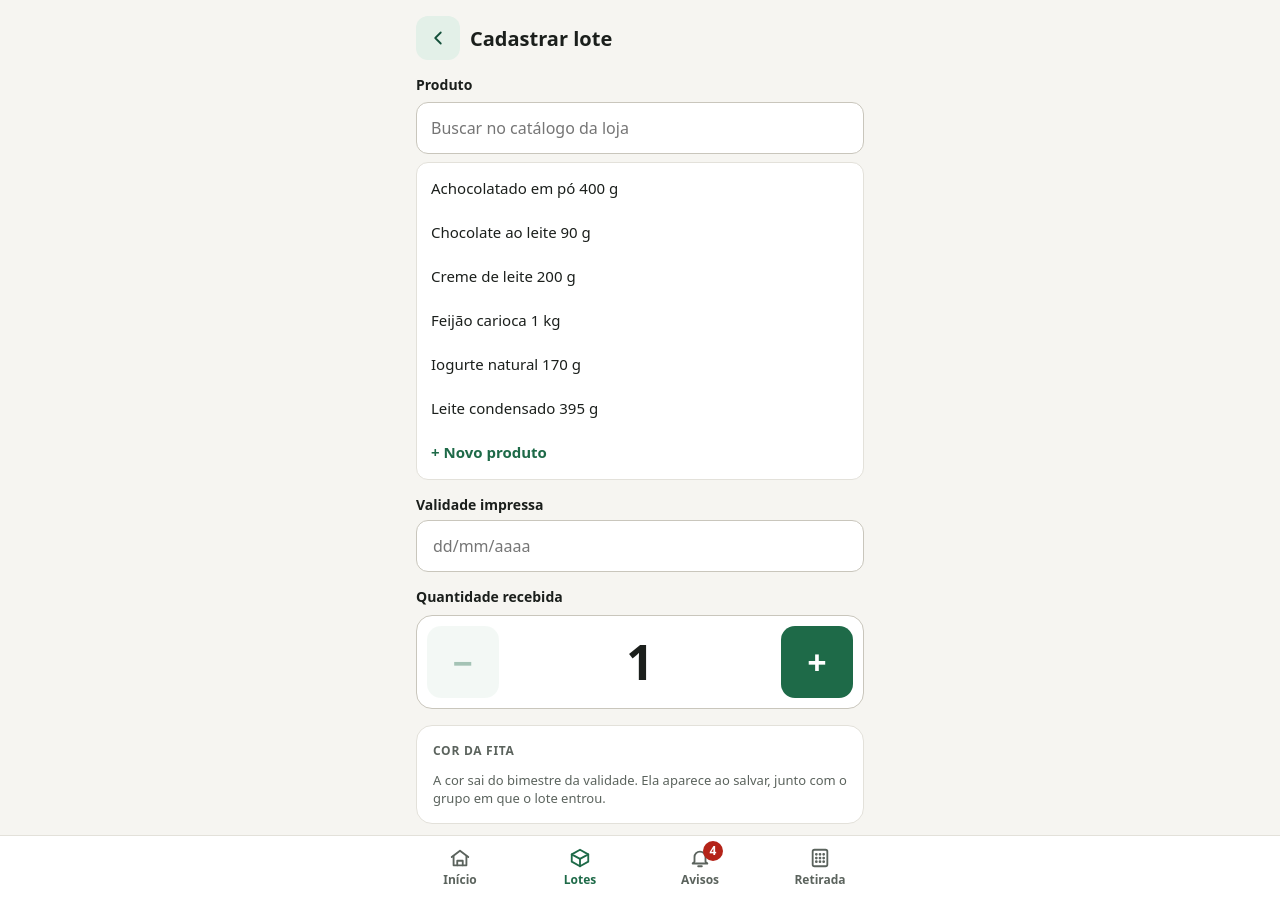
Test case: L3 · Cadastro do lote — os 3 resultados vêm da API › agrupado: entra no grupo ativo e a referência passa a ser a mais próxima
The width and height of the screenshot is (1280, 900).
Type "feijão" into the search field named "Buscar produto no catálogo" at (640, 128), box [416,102,864,154]
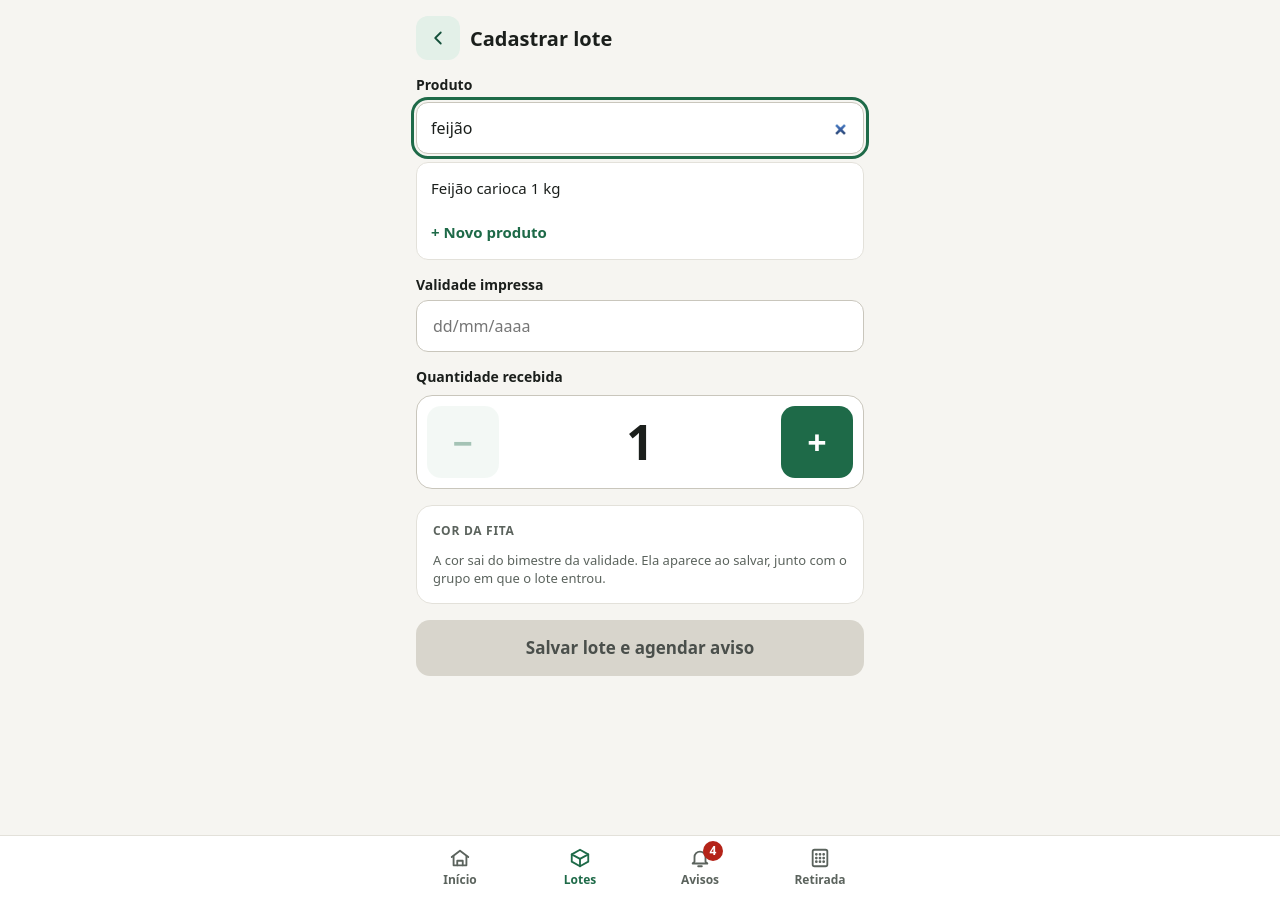
Click the button "Feijão carioca 1 kg" at (496, 188), box [421,167,859,211]
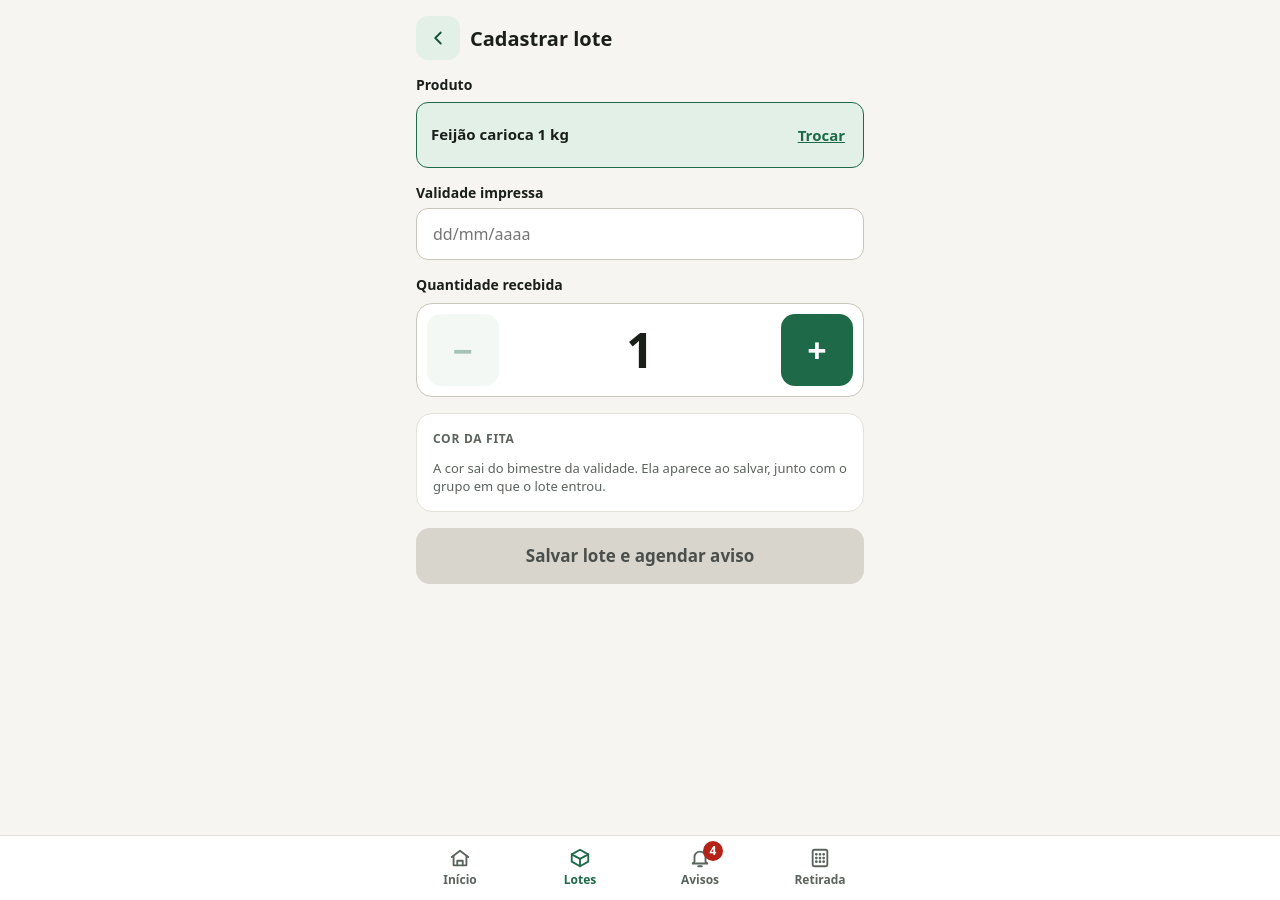
Type "10022027" into the field labelled "Validade impressa" at (644, 234), box [431,209,857,259]
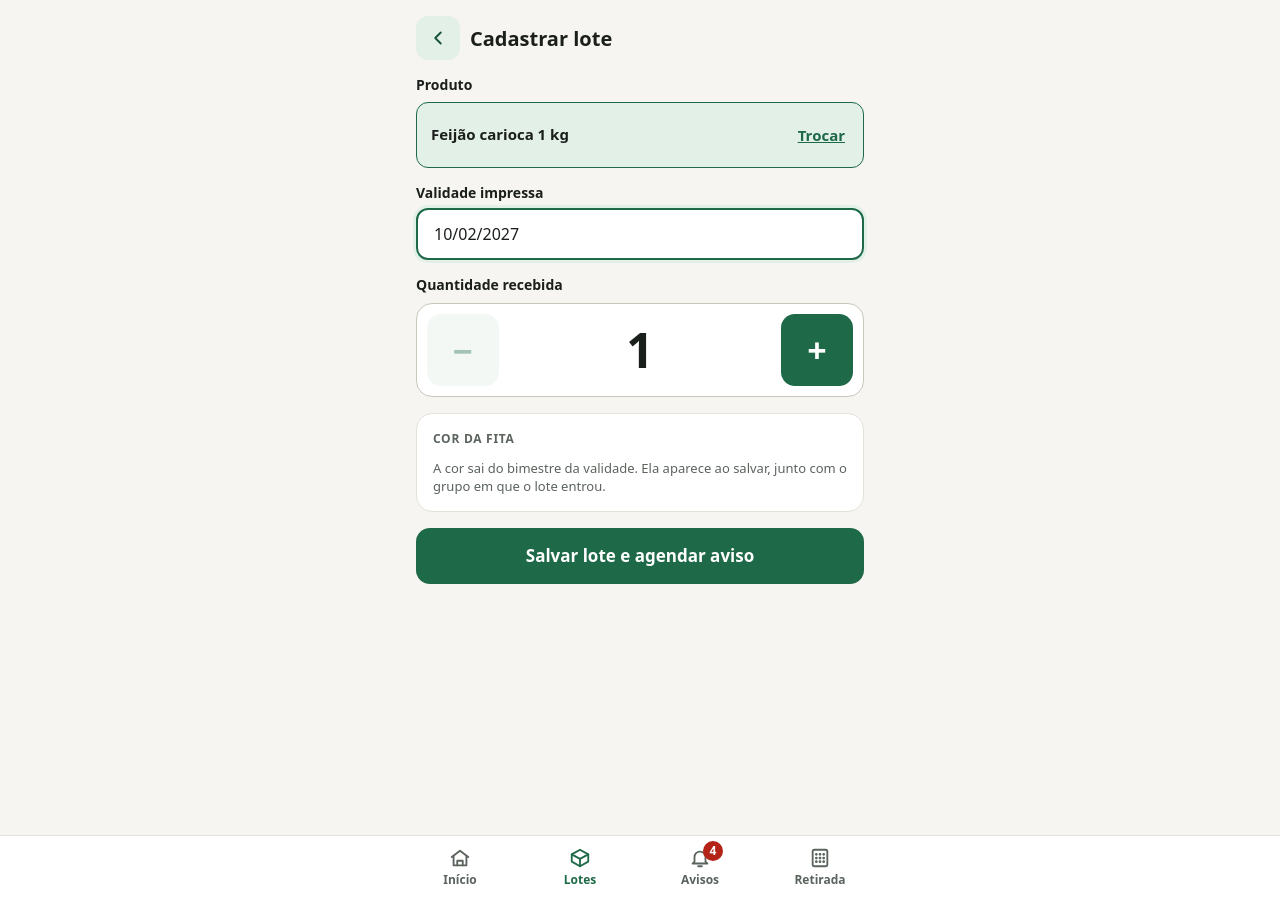
Click the button "Salvar lote e agendar aviso" at (640, 556), box [416,528,864,584]
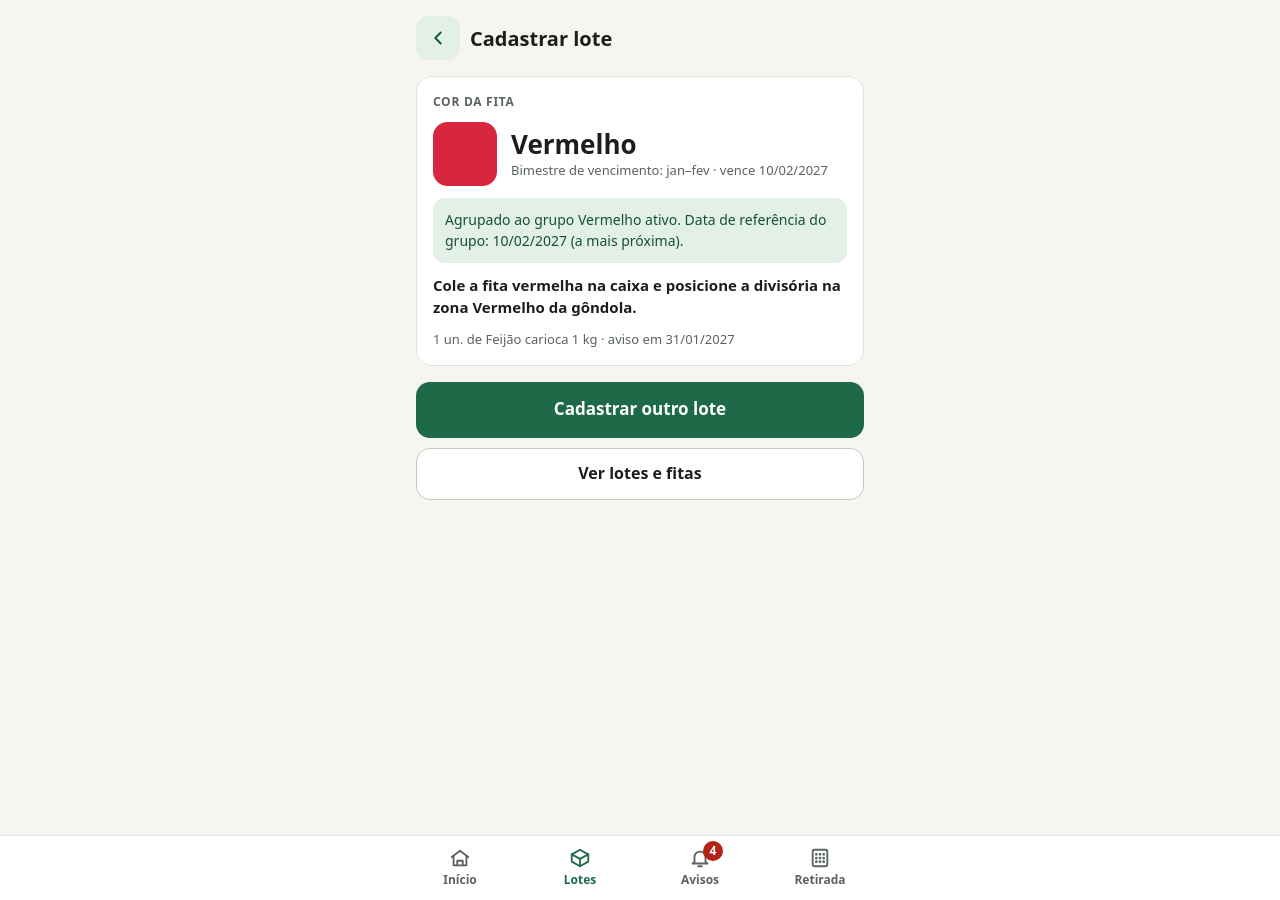
Now the text "Agrupado ao grupo Vermelho ativo. Data de referência do grupo: 10/02/2027 (a mais próxima)." is shown, box [433,198,847,263]
Now the text "Bimestre de vencimento: jan–fev · vence 10/02/2027" is shown, box [511,161,828,179]
Now the text "Cole a fita vermelha na caixa e posicione a divisória na zona Vermelho da gôndola." is shown, box [433,275,847,318]
